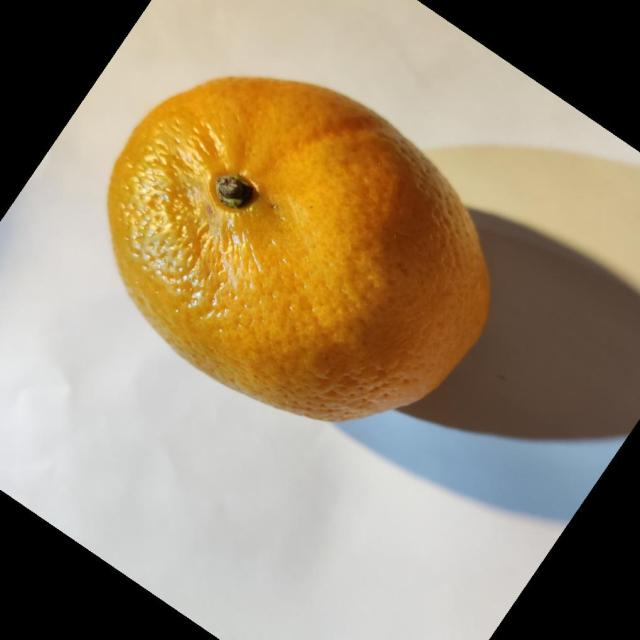fresh orange: (106, 74, 492, 423)
